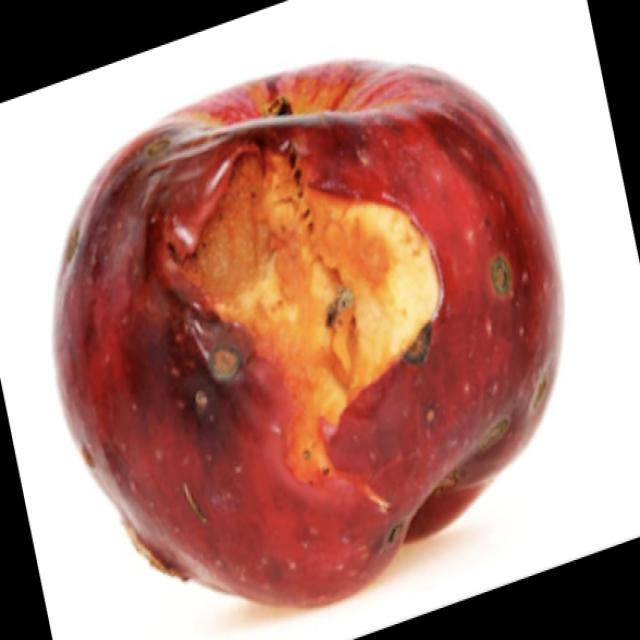Rotten: (43, 48, 577, 615)
